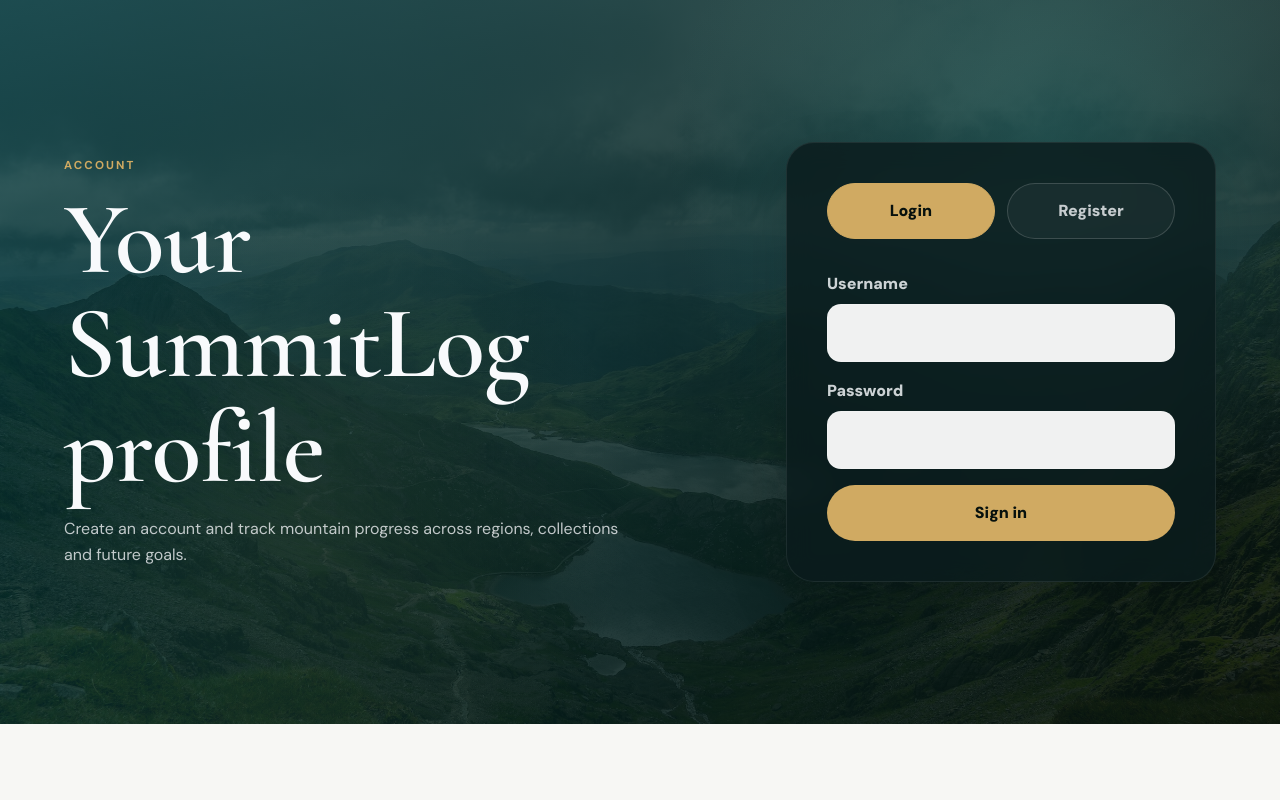
Test case: AccountPage — logged out › switches to register form when Register tab is clicked
Click the button "Register" at [1091, 211], box [1007, 183, 1175, 240]
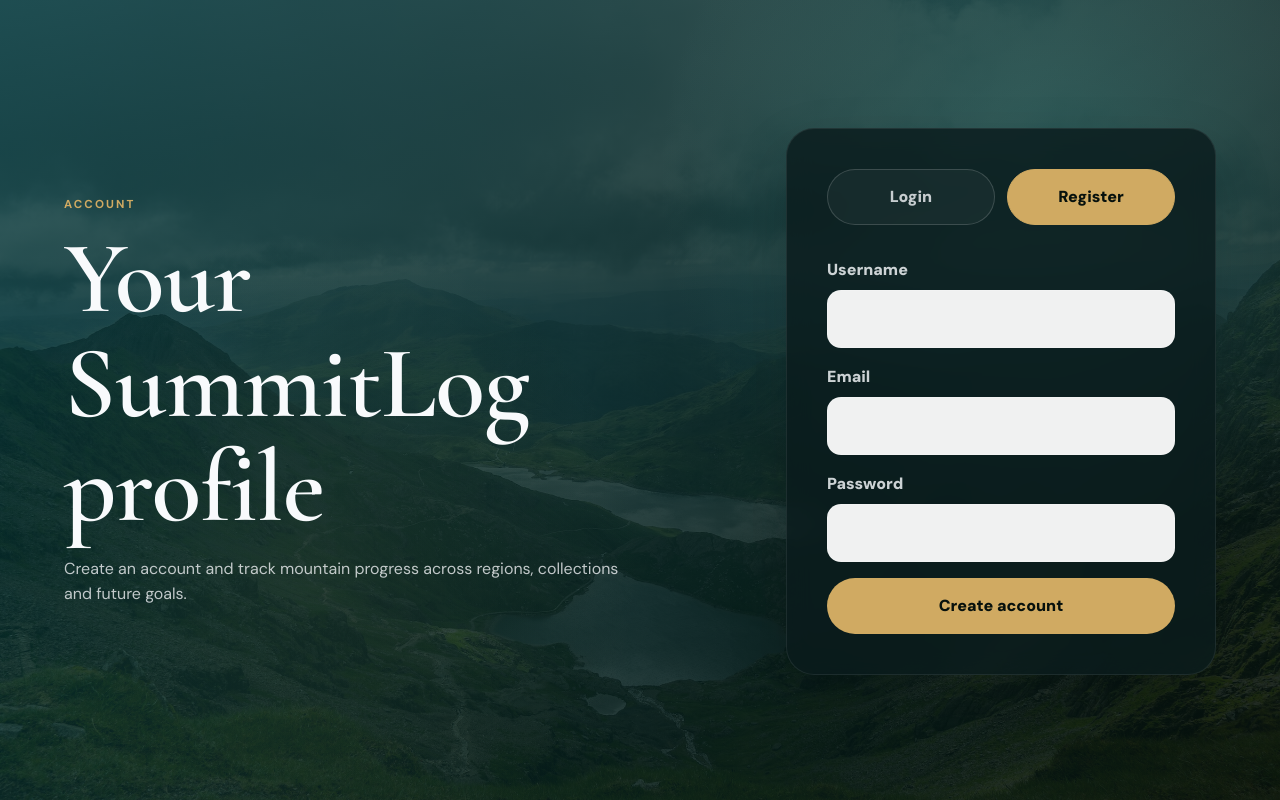
Expected: the button "Create account" is shown, [827, 578, 1175, 634]
Expected: the field labelled "Email" is shown, [827, 397, 1175, 455]
